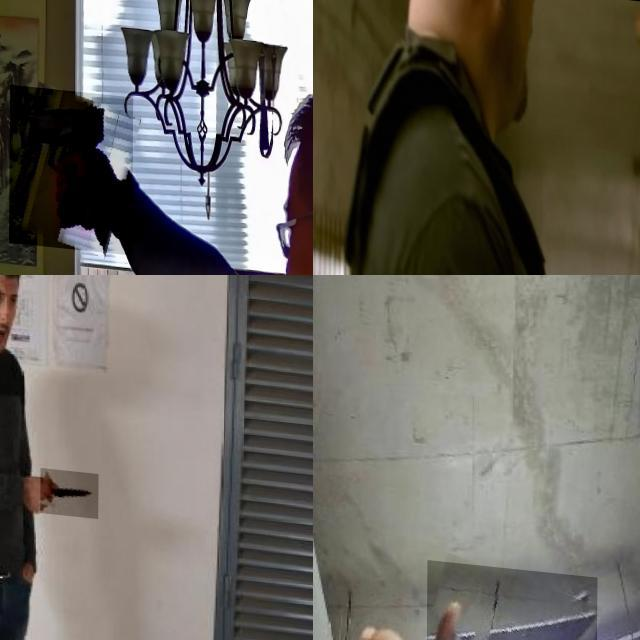-: (427, 551, 598, 640), (41, 461, 99, 510)
gun-knife-thesis - v11 Yolov5 augmented: (10, 83, 134, 251)
